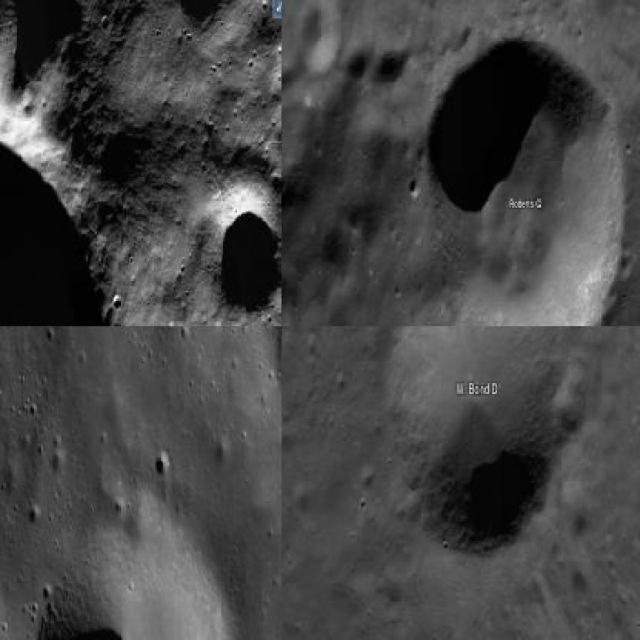crater: (426, 29, 625, 325), (389, 326, 569, 559), (0, 68, 129, 324), (31, 497, 238, 638), (217, 202, 280, 324)
